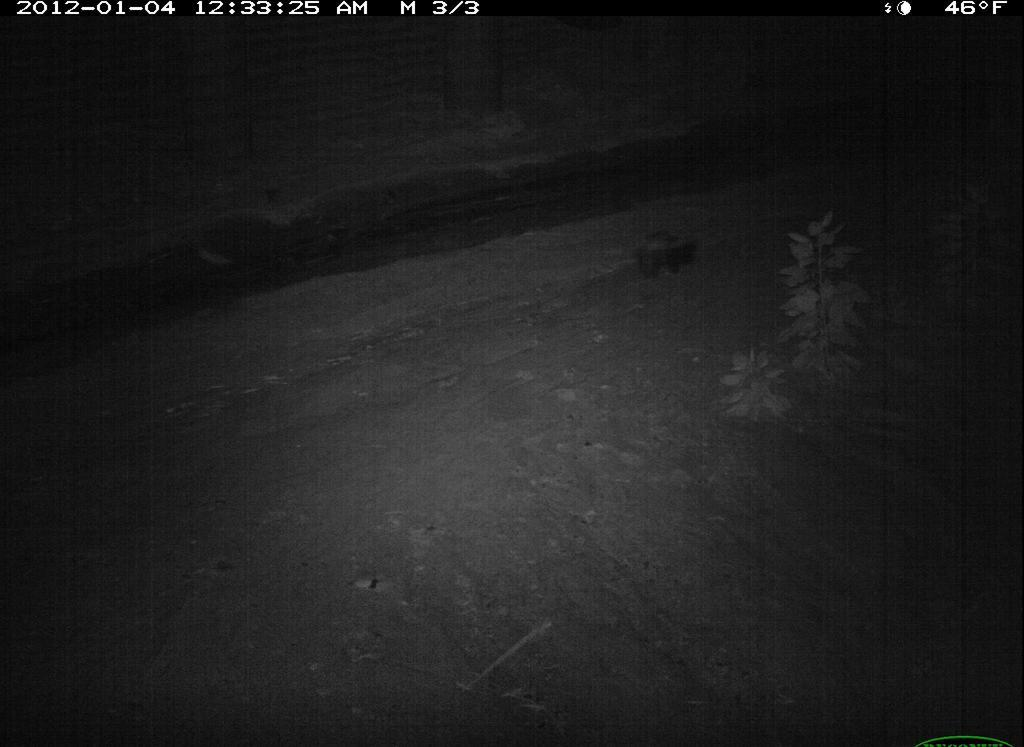skunk: (629, 218, 708, 286)
